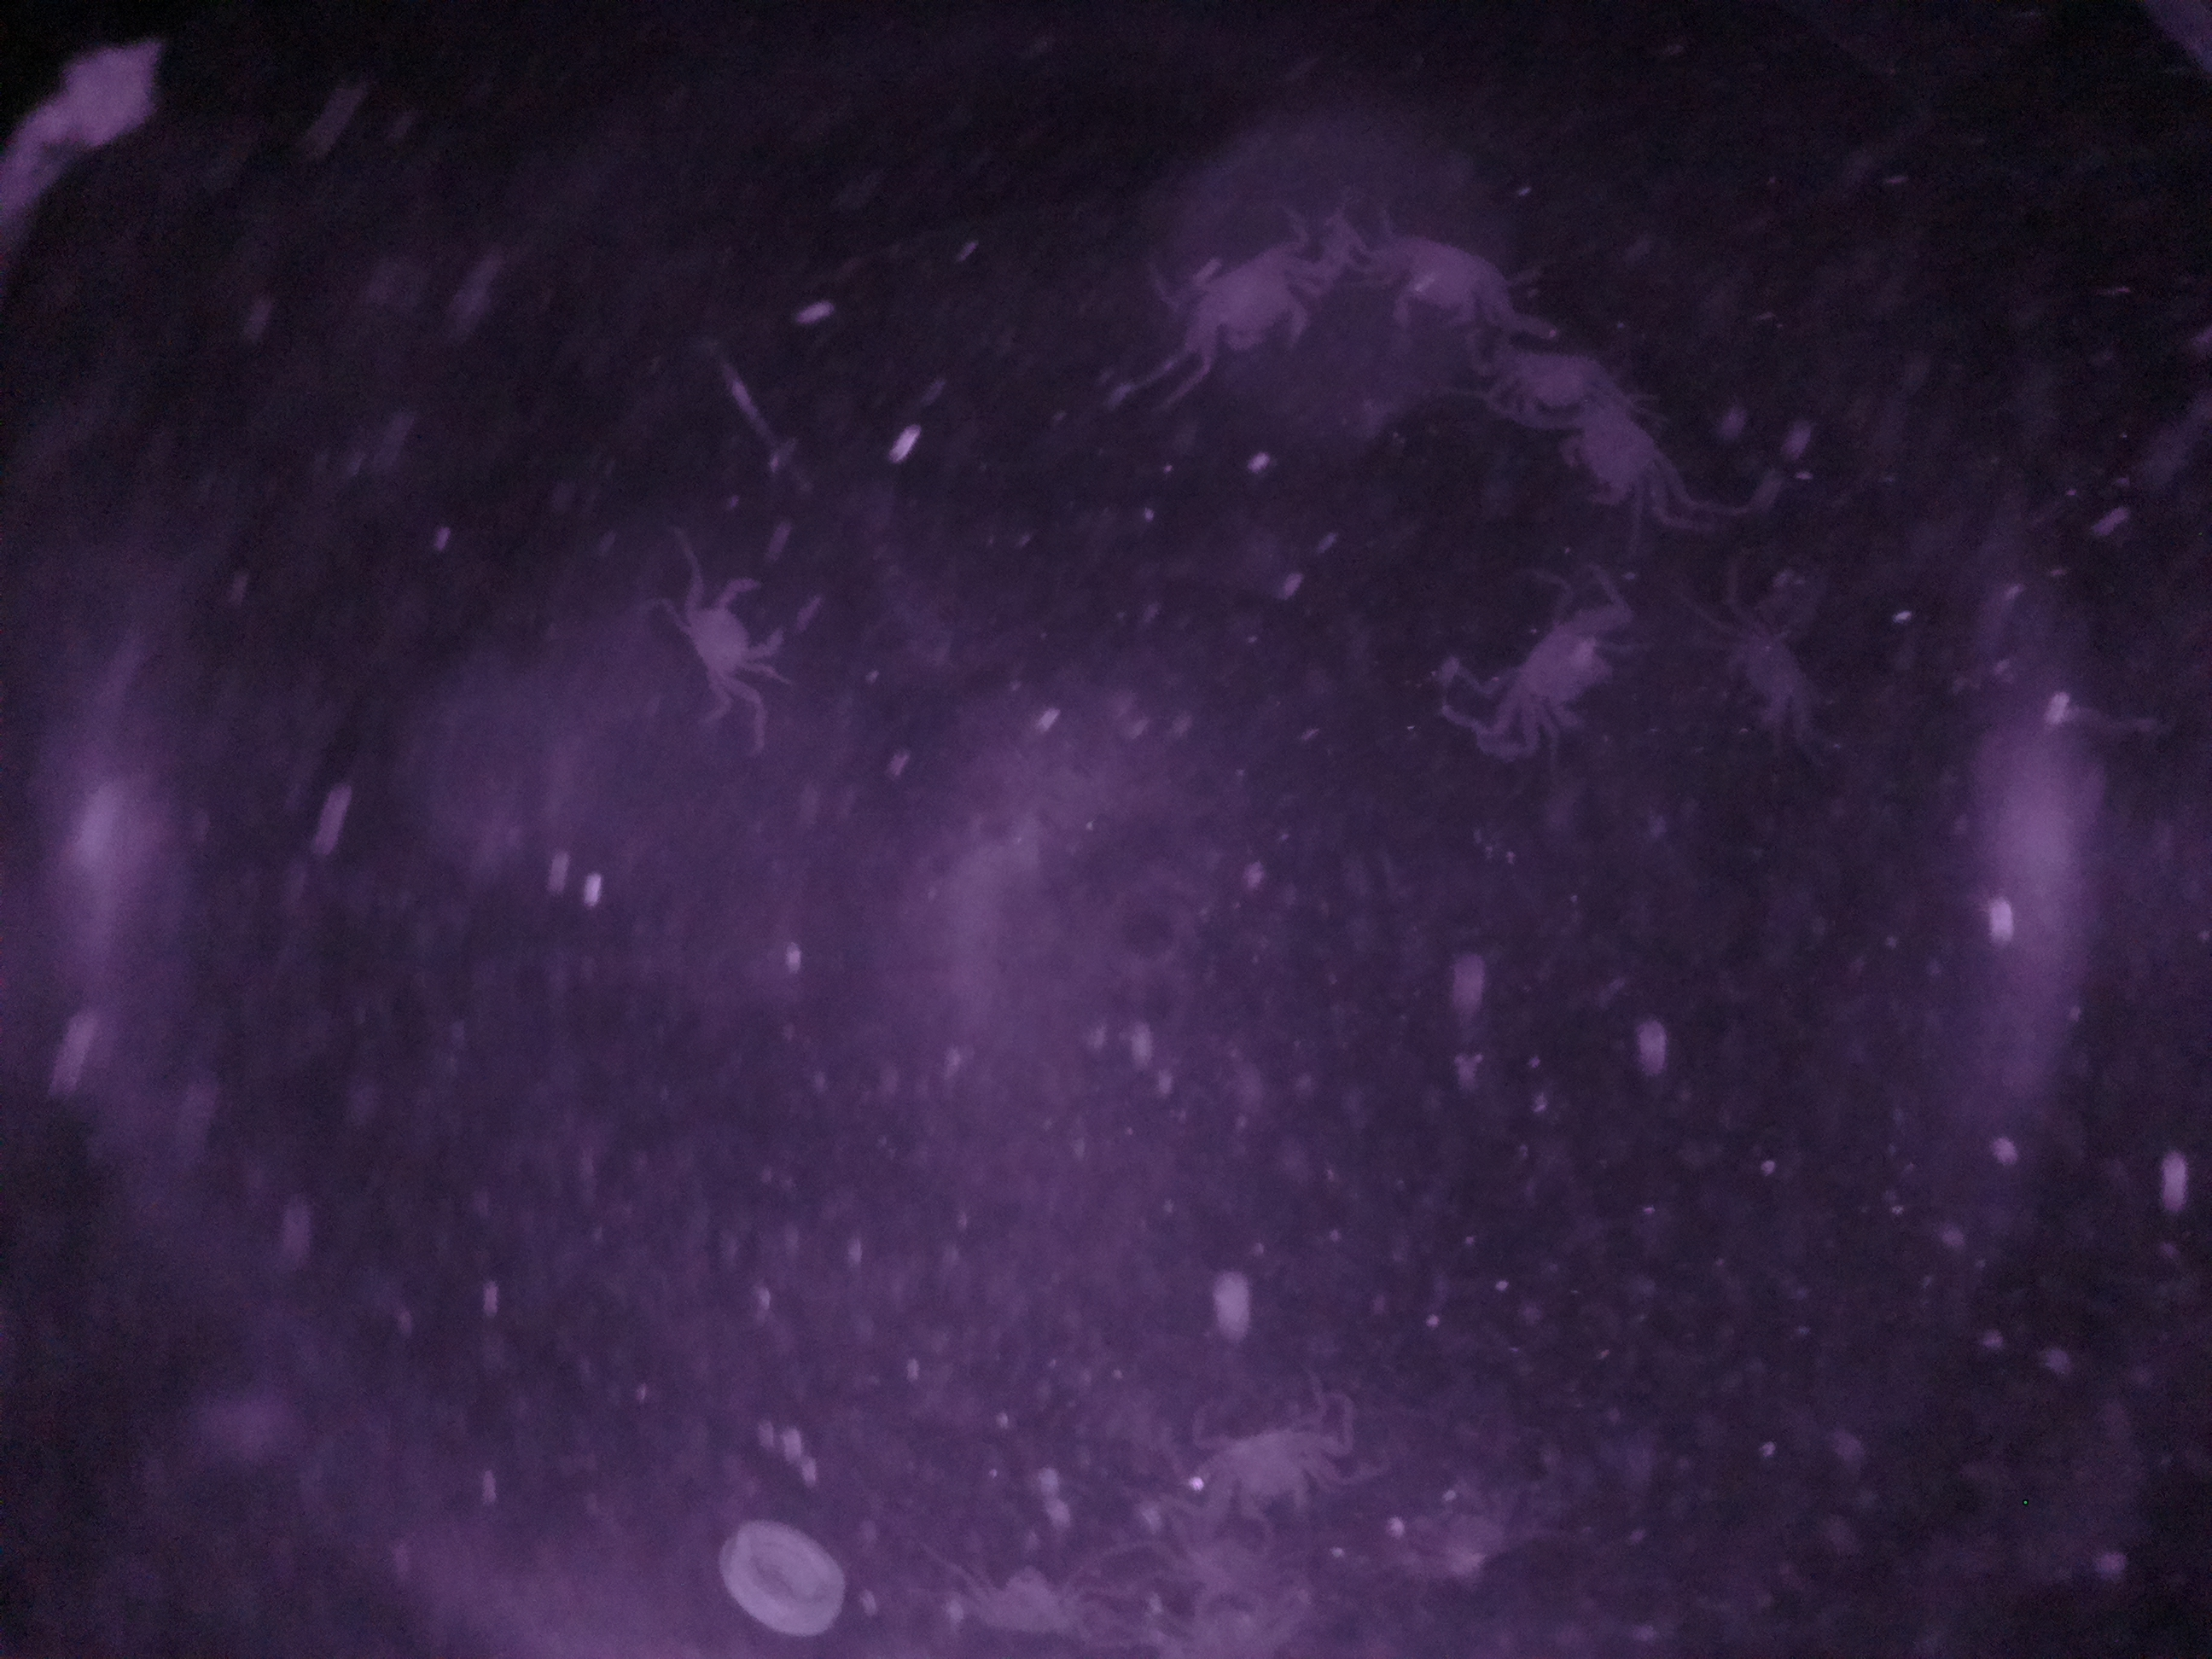Crab: (1458, 559, 1655, 772)
